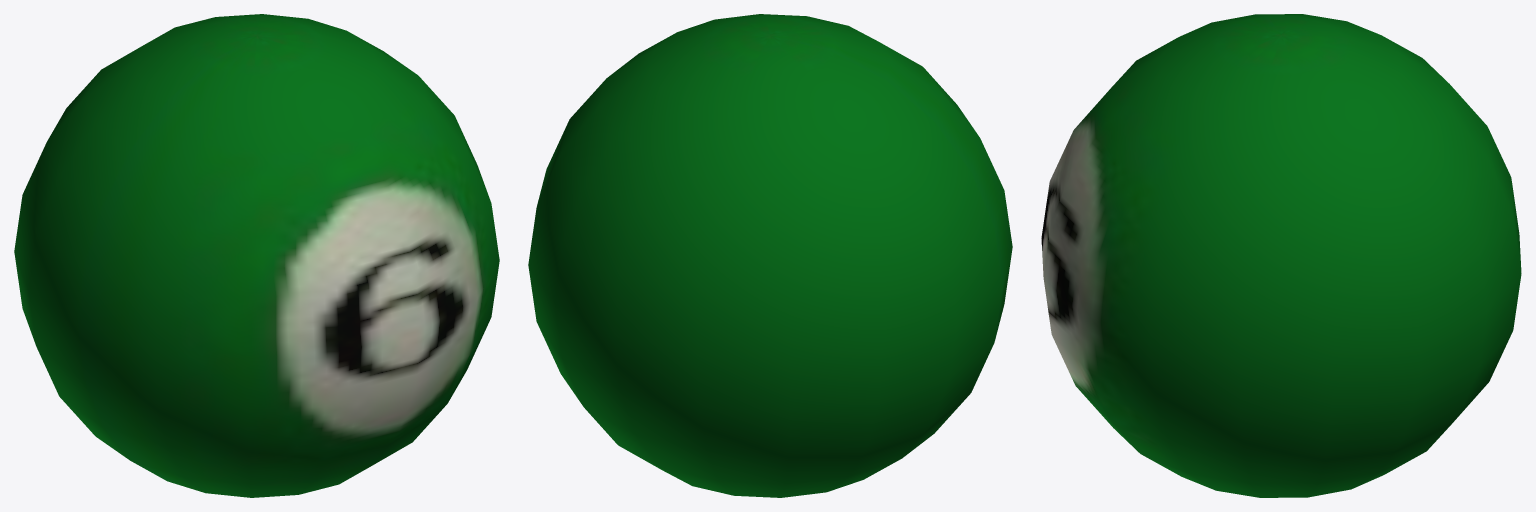
3 views of the same model, side by side, from view 1: azimuth 30°, elevation 25°; view 2: azimuth 150°, elevation 25°; view 3: azimuth 270°, elevation 25° (orthographic).
Parts seen in each view (by area): view 1: bi_a_06; view 2: bi_a_06; view 3: bi_a_06.
Boxes of the visible parts, <box> form: bi_a_06: <box>14,14,499,497</box>; bi_a_06: <box>528,14,1012,497</box>; bi_a_06: <box>1041,14,1521,497</box>.
Size of the model in its own units: 12.94 by 13.13 by 12.94.
